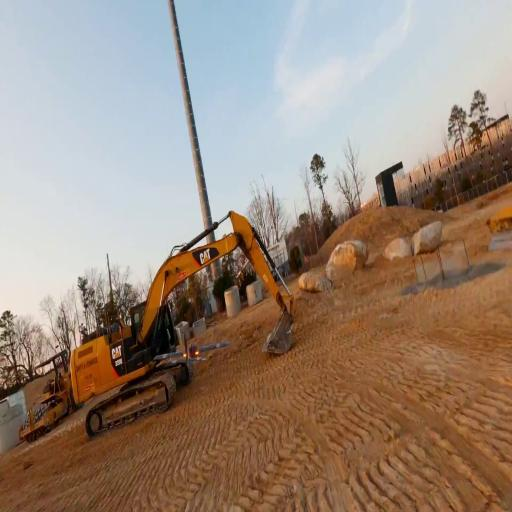uav: (152, 332, 230, 368)
